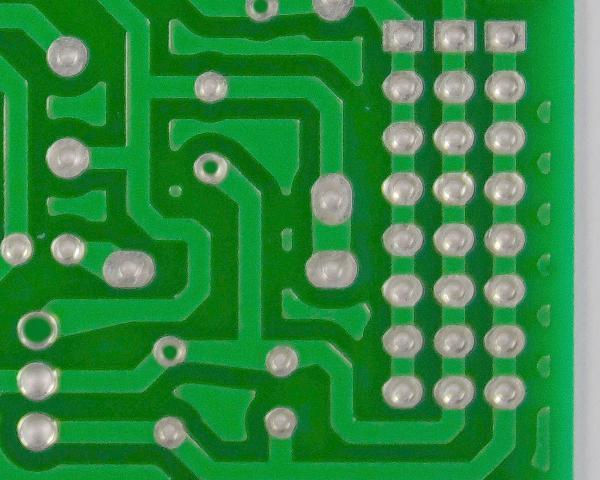missing hole: (12, 309, 62, 353), (190, 151, 234, 188), (151, 332, 190, 370), (241, 1, 282, 25)
